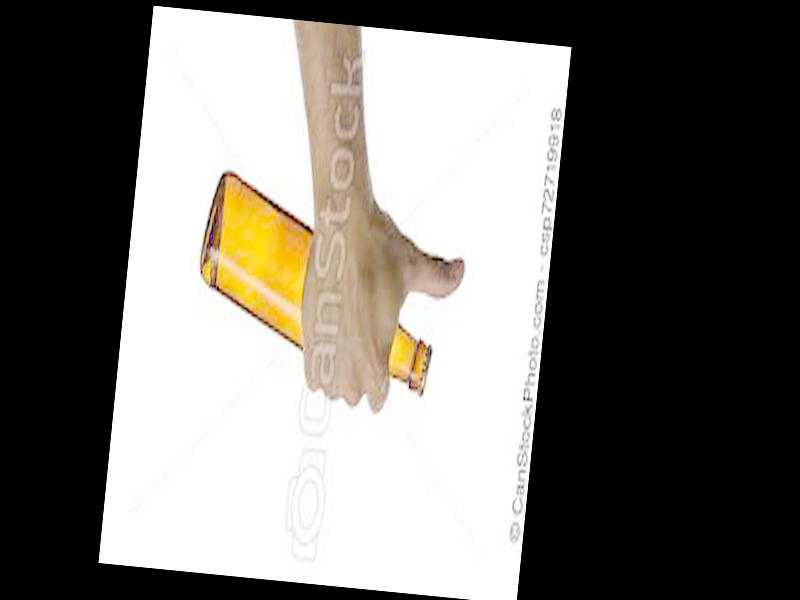Beer: (189, 168, 446, 393)
